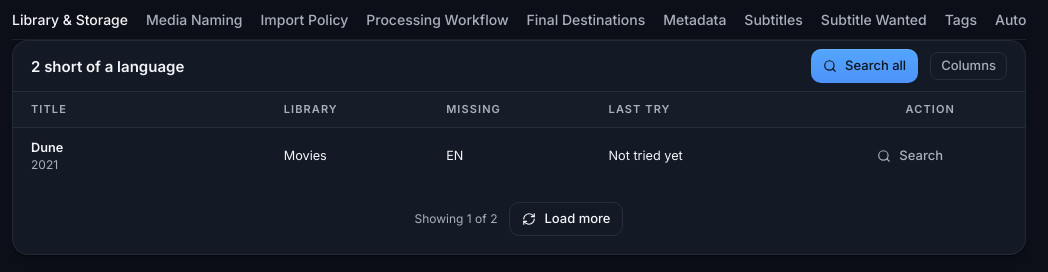
Scenario: Subtitle Wanted screen (#840) › says how many are waiting in all and loads the next page on request (#1439)
expect the heading "2 short of a language" is shown: met, box [31, 58, 184, 74]
expect the text "Showing 1 of 2" is shown: met, box [414, 210, 497, 228]
Click the button "Load more" at (566, 219), box [510, 202, 624, 236]
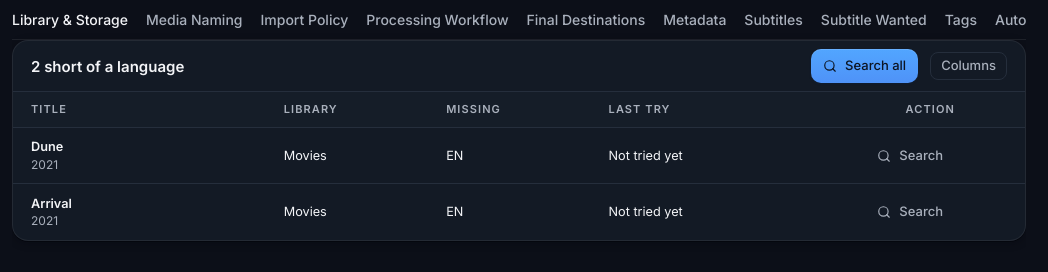
expect the text "Arrival" is shown: met, box [31, 196, 72, 211]
expect the button "Load more" is gone: met
